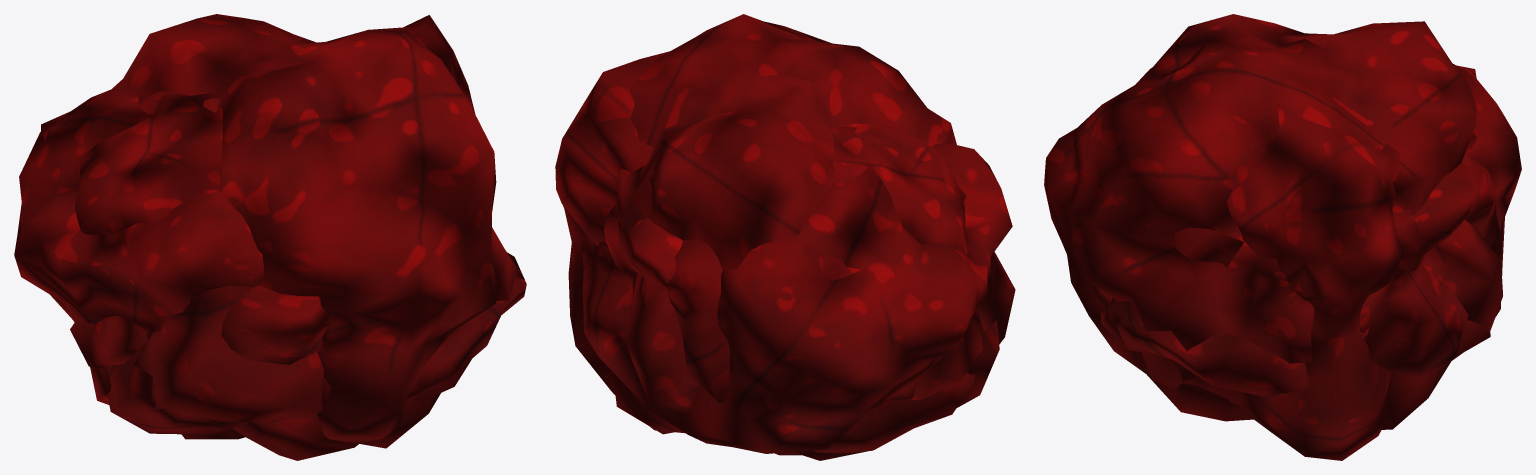
File: iwa.glb
3 views of the same model, side by side, from view 1: azimuth 30°, elevation 25°; view 2: azimuth 150°, elevation 25°; view 3: azimuth 270°, elevation 25° (orthographic). The views are drawn at different scales.
Visible parts, largest first — view 1: v2_lod0, v1_lod0, v3_lod0, v0_lod0; view 2: v3_lod0, v2_lod0, v1_lod0, v0_lod0; view 3: v2_lod0, v1_lod0, v3_lod0, v0_lod0.
Boxes of the visible parts, x1,y1,x2,y2 form: v2_lod0: [41, 14, 524, 448]; v1_lod0: [75, 15, 475, 460]; v3_lod0: [14, 87, 264, 434]; v0_lod0: [70, 252, 526, 403]; v3_lod0: [581, 126, 1012, 453]; v2_lod0: [583, 14, 956, 460]; v1_lod0: [555, 51, 1015, 455]; v0_lod0: [611, 208, 982, 400]; v2_lod0: [1044, 14, 1502, 429]; v1_lod0: [1141, 103, 1501, 460]; v3_lod0: [1174, 64, 1521, 375]; v0_lod0: [1100, 162, 1479, 396].
Size of what is drawn, in the model's own units: 2.08 by 1.79 by 2.01.
Materials: 1 (1 with a texture image).
